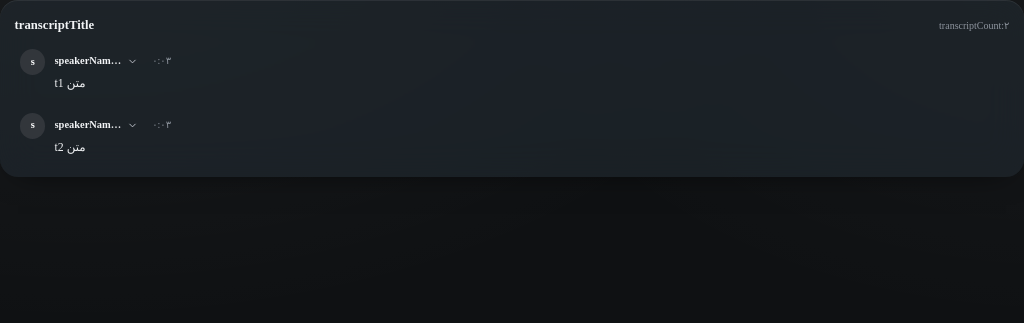
the transcript names its voices › one press renames EVERY turn that voice took
Click the button with aria-label "speakerPick". click: (96,125)
box: [51,117,141,134]
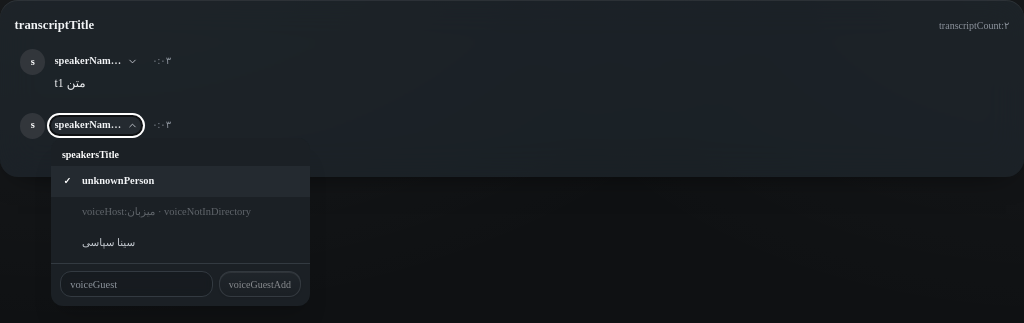
Click the option "سینا سپاسی". click: (181,244)
box: [51,228,310,260]
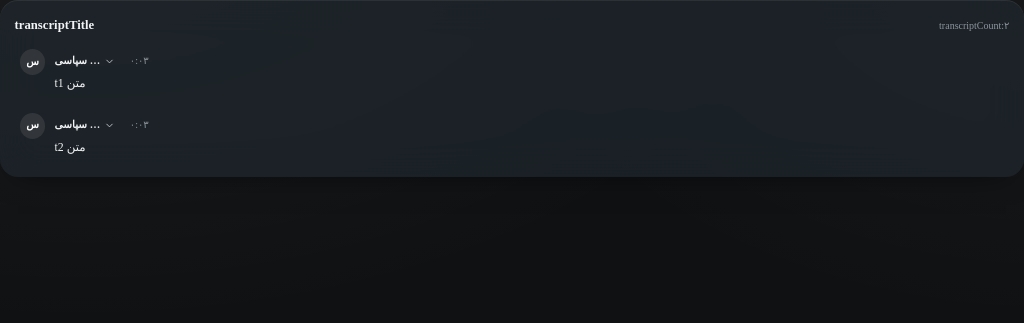
Check: the text "سینا سپاسی" is shown 2 times, box [54,54,101,70]; [54,117,101,134]
